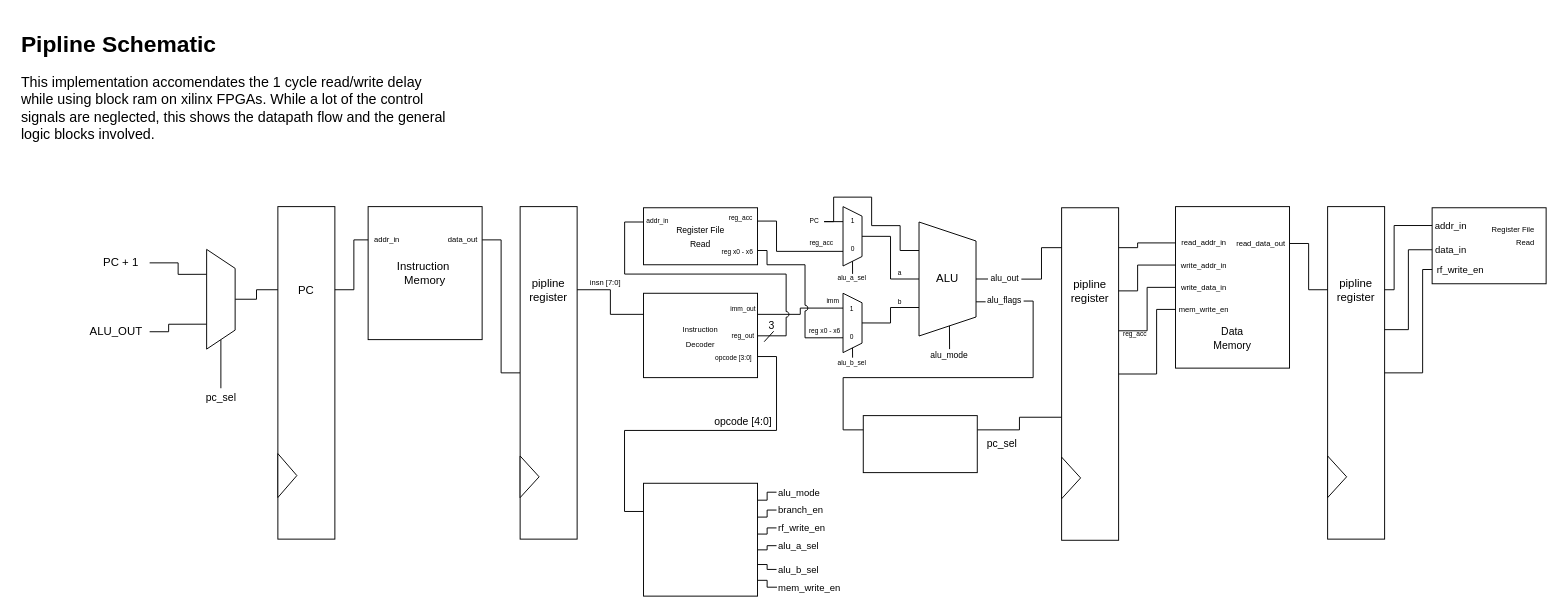
This 1563x613 diagram has some shape labels left out. Each missing label, with the centre of its shape:
"Branch Decision" belongs at pixel 919 444.
"Control" belongs at pixel 700 539.
